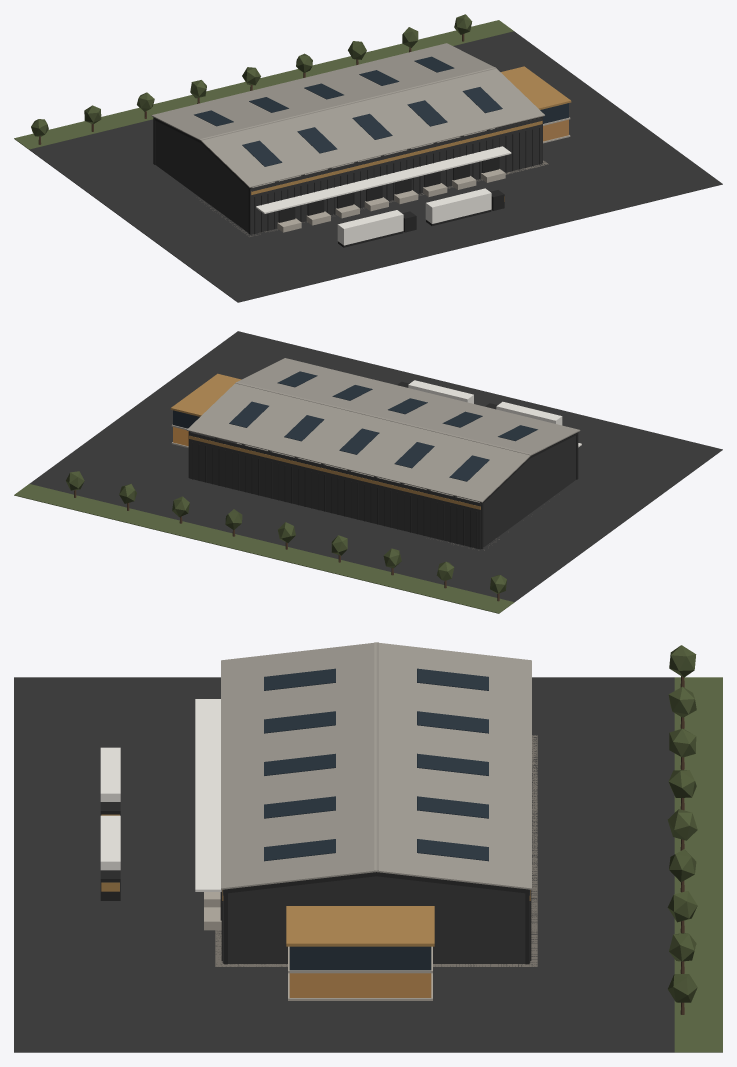
Rendered from industrial.glb.
3 views of the same model, one above another, from view 1: azimuth 30°, elevation 25°; view 2: azimuth 150°, elevation 25°; view 3: azimuth 270°, elevation 25° (orthographic). The views are drawn at different scales.
Parts seen in each view (by area): view 1: site-asphalt, roof-roof-sheet, cladding-cladding, site-grass, roof-glass, cladding-steel, site-white, cladding-white, site-foliage, cladding-concrete, office_facade-bronze, cladding-bronze (+2 smaller); view 2: site-asphalt, roof-roof-sheet, cladding-cladding, site-grass, roof-glass, cladding-steel, site-foliage, office_facade-bronze, site-white, cladding-bronze, frame-steel; view 3: site-asphalt, roof-roof-sheet, cladding-cladding, site-grass, roof-glass, office_facade-bronze, site-foliage, cladding-white, office_facade-glass-warm, office_facade-glass, site-white, foundation-concrete-dark (+4 smaller).
Boxes of the visible parts, x1,y1,x2,y2 form: site-asphalt: (29,31,722,302); roof-roof-sheet: (151,43,544,187); cladding-cladding: (155,117,542,234); site-grass: (14,20,513,149); roof-glass: (194,56,502,166); cladding-steel: (254,127,539,233); site-white: (337,188,491,245); cladding-white: (256,146,511,213); site-foliage: (31,14,472,136); cladding-concrete: (277,169,505,232); office_facade-bronze: (501,66,571,109); cladding-bronze: (251,121,542,194); site-asphalt: (29,331,722,602); roof-roof-sheet: (186,358,580,502); cladding-cladding: (189,432,576,549); site-grass: (14,484,514,613); roof-glass: (229,371,537,481); cladding-steel: (192,442,477,548); site-foliage: (66,471,506,593); office_facade-bronze: (170,373,241,416); site-white: (408,380,562,425); cladding-bronze: (189,435,480,509); frame-steel: (188,431,578,549); site-asphalt: (14,677,674,1052); roof-roof-sheet: (221,642,531,889); cladding-cladding: (222,876,530,963); site-grass: (674,677,722,1052); roof-glass: (264,668,488,861); office_facade-bronze: (286,906,434,946); site-foliage: (667,645,697,1002); cladding-white: (195,699,221,891); office_facade-glass-warm: (289,973,431,997); office_facade-glass: (289,946,431,970); site-white: (100,747,120,870); foundation-concrete-dark: (215,735,537,966).
Size of the model in its own units: 110 by 13.59 by 88.
